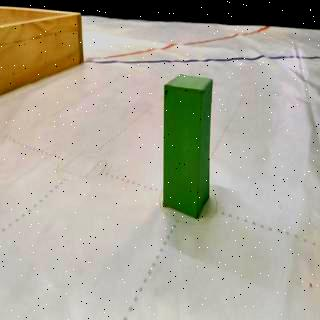greenbox: (162, 72, 214, 220)
